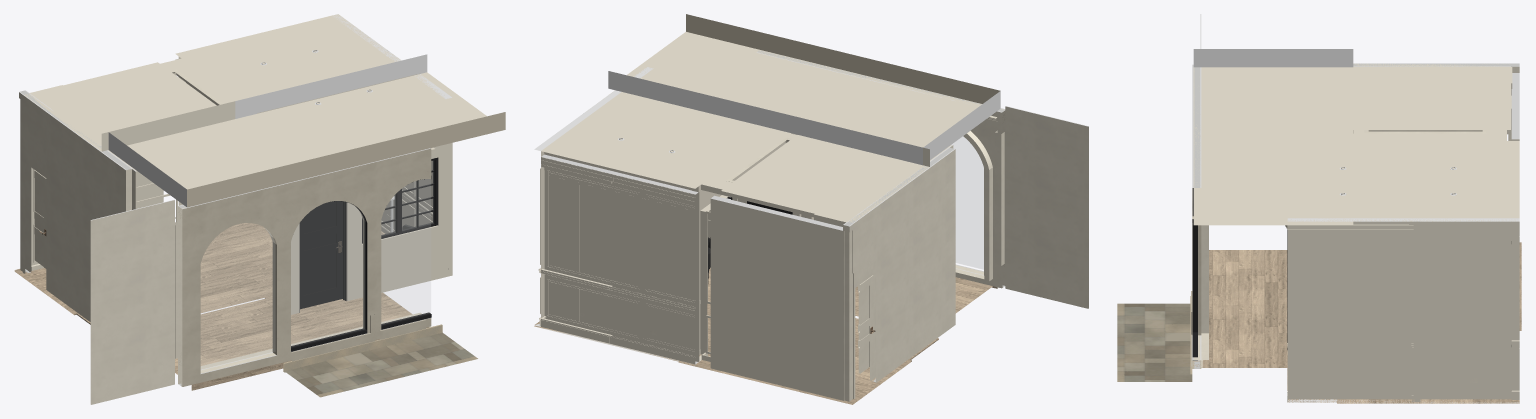
The model's file is office-east-e044f15323b5.glb.
The picture shows the model from 3 angles, left to right: view 1: azimuth 30°, elevation 25°; view 2: azimuth 150°, elevation 25°; view 3: azimuth 270°, elevation 25°; orthographic projection. The views are drawn at different scales.
Parts seen in each view (by area): view 1: office-east-look-dbd60ee5c3733ed6, office-east-look-c9e78b9ec1bb39cd, office-east-look-d5a4a1b5d3594c04, office-east-look-6a051330000fbca1, office-east-look-2575515a05775d9e, office-east-2575515a05775d9e, office-east-look-38561c12898e4d43, office-east-look-c02a36d0521470a9, office-east-look-c374268555806af8, office-east-7dc307bfa7ee071d, office-east-look-5cbcc744e6f960f3, office-east-look-982408871810a50e (+17 smaller); view 2: office-east-look-dbd60ee5c3733ed6, office-east-look-19647d6da46c2b80, office-east-19647d6da46c2b80, office-east-look-6a051330000fbca1, office-east-look-d5a4a1b5d3594c04, office-east-2575515a05775d9e, office-east-look-2575515a05775d9e, office-east-look-38561c12898e4d43, office-east-7b11e78295c2e11d, office-east-look-c9e78b9ec1bb39cd, office-east-look-0d8abb8bf9b53894, office-east-dbd60ee5c3733ed6 (+17 smaller); view 3: office-east-6a1144f4e43410bb, office-east-look-dbd60ee5c3733ed6, office-east-2575515a05775d9e, office-east-look-2575515a05775d9e, office-east-look-c374268555806af8, office-east-look-982408871810a50e, office-east-dbd60ee5c3733ed6, office-east-7dc307bfa7ee071d, office-east-look-c9e78b9ec1bb39cd, office-east-look-0d8abb8bf9b53894, office-east-19647d6da46c2b80, office-east-07b6babc03834d5e (+17 smaller).
Boxes of the visible parts, box(x1,y1,x2,y2) form: office-east-look-dbd60ee5c3733ed6: box(108, 54, 505, 207); office-east-look-c9e78b9ec1bb39cd: box(178, 148, 431, 386); office-east-look-d5a4a1b5d3594c04: box(90, 199, 174, 404); office-east-look-6a051330000fbca1: box(19, 90, 136, 321); office-east-look-2575515a05775d9e: box(24, 62, 235, 151); office-east-2575515a05775d9e: box(175, 14, 420, 113); office-east-look-38561c12898e4d43: box(201, 223, 275, 369); office-east-look-c02a36d0521470a9: box(291, 201, 364, 346); office-east-look-c374268555806af8: box(175, 292, 429, 390); office-east-7dc307bfa7ee071d: box(293, 97, 445, 313); office-east-look-5cbcc744e6f960f3: box(381, 179, 430, 324); office-east-look-982408871810a50e: box(283, 332, 477, 397); office-east-look-dbd60ee5c3733ed6: box(608, 14, 1000, 165); office-east-look-19647d6da46c2b80: box(710, 195, 842, 400); office-east-19647d6da46c2b80: box(541, 154, 699, 364); office-east-look-6a051330000fbca1: box(843, 144, 955, 401); office-east-look-d5a4a1b5d3594c04: box(1005, 106, 1088, 308); office-east-2575515a05775d9e: box(541, 92, 771, 188); office-east-look-2575515a05775d9e: box(721, 135, 929, 222); office-east-look-38561c12898e4d43: box(952, 137, 983, 269); office-east-7b11e78295c2e11d: box(692, 110, 808, 361); office-east-look-c9e78b9ec1bb39cd: box(756, 50, 1005, 288); office-east-look-0d8abb8bf9b53894: box(701, 129, 951, 226); office-east-dbd60ee5c3733ed6: box(615, 67, 807, 129); office-east-6a1144f4e43410bb: box(1287, 218, 1519, 402); office-east-look-dbd60ee5c3733ed6: box(1193, 49, 1353, 225); office-east-2575515a05775d9e: box(1353, 141, 1519, 221); office-east-look-2575515a05775d9e: box(1353, 63, 1510, 129); office-east-look-c374268555806af8: box(1192, 250, 1287, 367); office-east-look-982408871810a50e: box(1117, 303, 1192, 381); office-east-dbd60ee5c3733ed6: box(1287, 141, 1353, 221); office-east-7dc307bfa7ee071d: box(1287, 144, 1295, 399); office-east-look-c9e78b9ec1bb39cd: box(1192, 64, 1201, 368); office-east-look-0d8abb8bf9b53894: box(1353, 67, 1512, 140); office-east-19647d6da46c2b80: box(1511, 224, 1519, 390); office-east-07b6babc03834d5e: box(1295, 394, 1511, 399).
Size of the model in its own units: 7.25 by 3.46 by 6.07.
26 materials, 7 textured.
